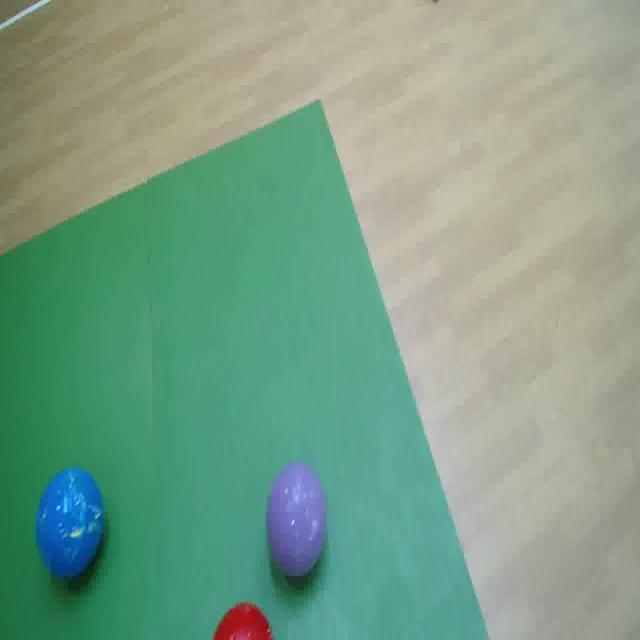blue_ball: (28, 458, 112, 574)
purple_ball: (262, 448, 333, 588)
red_ball: (208, 597, 278, 640)
